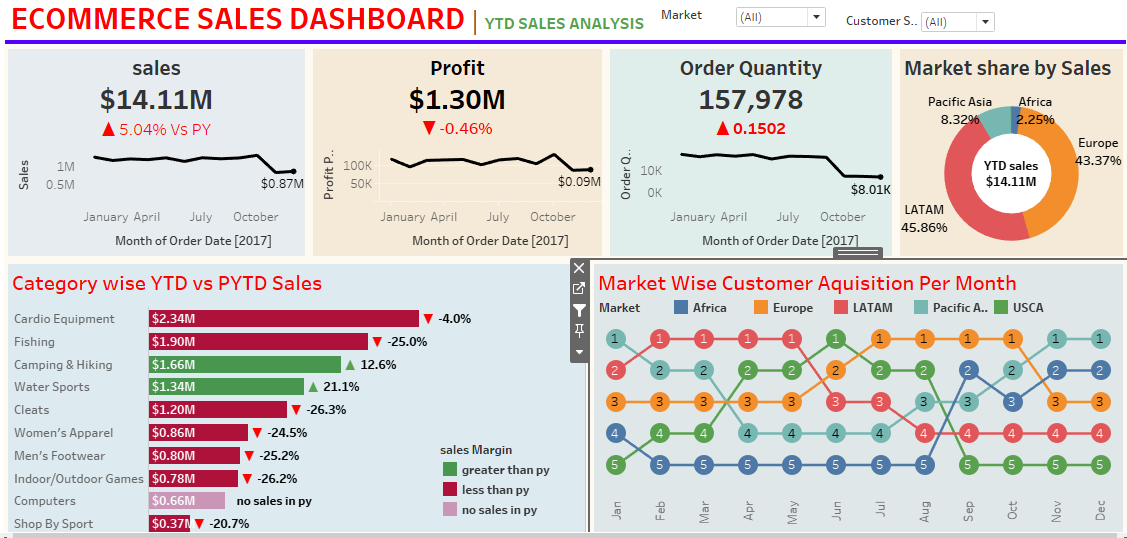

The page's visual inventory and layout, read from the dashboard file:
{"tool":"tableau","page":{"name":"Dashboard 1","canvas":[1000,1000],"units":"permille","ordinal":0},"visuals":[{"type":"title","box":[7,14.3,986,76.8]},{"type":"filter","title":"Category wise YTD vs PYTD Sales","param":"[federated.0qchdnu1ezsdyj1ex9nt80yqjqdq].[none:Market:nk]","box":[583.9,28.6,147.5,60.7]},{"type":"filter","title":"Category wise YTD vs PYTD Sales","param":"[federated.0qchdnu1ezsdyj1ex9nt80yqjqdq].[none:Customer Segment:nk]","box":[742.8,32.1,140.5,57.1]},{"type":"blank","box":[7,91.1,986,10.7]},{"type":"worksheet","title":"sales KPI","mark":"Automatic","rows":["Sales"],"cols":["Order Date"],"box":[7,101.8,267.8,383.9]},{"type":"worksheet","title":"profit KPI (2)","mark":"Automatic","rows":["Profit Per Order"],"cols":["Order Date"],"box":[274.8,101.8,260.8,383.9]},{"type":"worksheet","title":"Order Quantity KPI (3)","mark":"Automatic","rows":["Order Quantity"],"cols":["Order Date"],"box":[535.5,101.8,254.6,383.9]},{"type":"worksheet","title":"Sheet 4","mark":"Pie","cols":["Calculation_132856205681557518","Calculation_132856205681586192"],"box":[790.2,101.8,202.8,383.9]},{"type":"worksheet","title":"Category wise YTD vs PYTD Sales","mark":"Bar","rows":["Category Name"],"cols":["Calculation_132856205682409489","Calculation_132856205682409489"],"box":[7,485.7,514.5,500]},{"type":"worksheet","title":"Market Wise Customer Aquisition Per Month","mark":"Automatic","cols":["Order Date"],"box":[521.5,485.7,471.5,500]},{"type":"legend","title":"Market Wise Customer Aquisition Per Month","param":"[federated.0qchdnu1ezsdyj1ex9nt80yqjqdq].[none:Market:nk]","box":[529.4,551.8,451.3,50]},{"type":"legend","title":"Category wise YTD vs PYTD Sales","param":"[federated.0qchdnu1ezsdyj1ex9nt80yqjqdq].[usr:Calculation_132856205912735764:nk]","box":[389.8,808.9,122.9,151.8]}]}

Visuals, with their boxes on the dashboard's canvas, which has no fixed pixel size, in thousandths of its width and height (x1, y1, x2, y2). These are canvas units, not pixel positions in the 1127x538 screenshot, which may show the page scaled, cropped or inside an application window:
title: box=[7, 14, 993, 91]
"Category wise YTD vs PYTD Sales" filter: box=[584, 29, 731, 89]
"Category wise YTD vs PYTD Sales" filter: box=[743, 32, 883, 89]
blank: box=[7, 91, 993, 102]
"sales KPI" worksheet: box=[7, 102, 275, 486]
"profit KPI (2)" worksheet: box=[275, 102, 536, 486]
"Order Quantity KPI (3)" worksheet: box=[536, 102, 790, 486]
"Sheet 4" worksheet (Pie marks): box=[790, 102, 993, 486]
"Category wise YTD vs PYTD Sales" worksheet (Bar marks): box=[7, 486, 522, 986]
"Market Wise Customer Aquisition Per Month" worksheet: box=[522, 486, 993, 986]
"Market Wise Customer Aquisition Per Month" legend: box=[529, 552, 981, 602]
"Category wise YTD vs PYTD Sales" legend: box=[390, 809, 513, 961]
